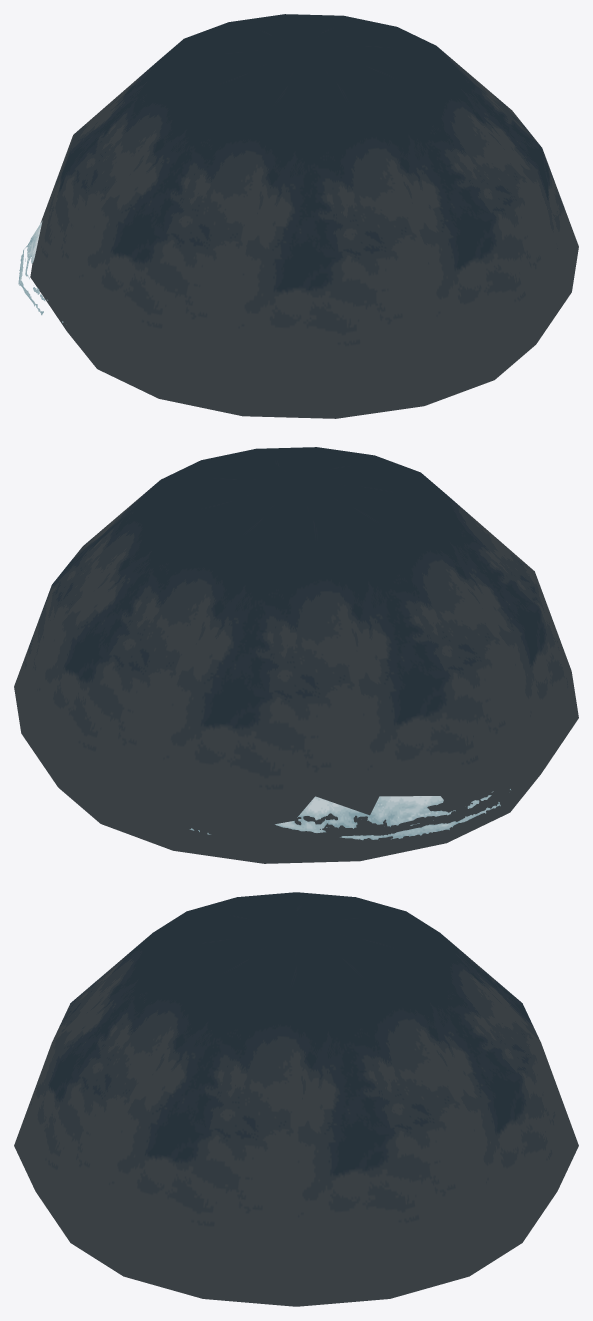
The picture shows the model from 3 angles, top to bottom: view 1: azimuth 30°, elevation 25°; view 2: azimuth 150°, elevation 25°; view 3: azimuth 270°, elevation 25°; orthographic projection. The views are drawn at different scales.
Size of the model in its own units: 99001 by 53769 by 99001.
35 materials, 35 textured.
